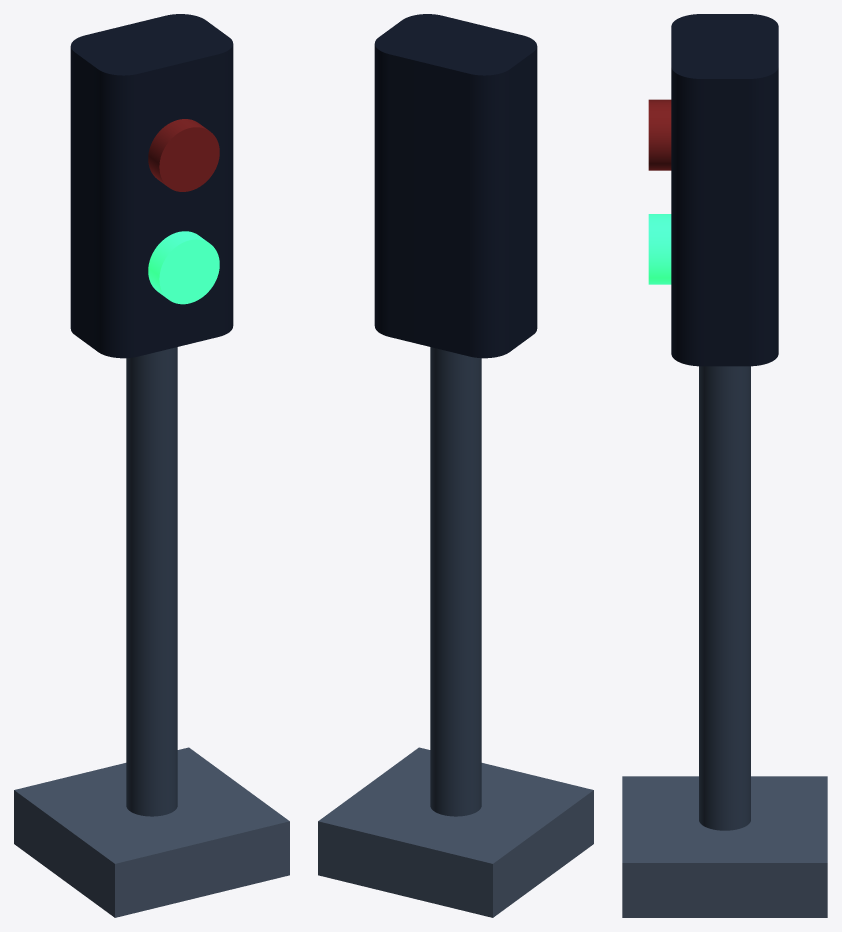
Rendered from railway_signal.glb.
3 views of the same model, side by side, from view 1: azimuth 30°, elevation 25°; view 2: azimuth 150°, elevation 25°; view 3: azimuth 270°, elevation 25° (orthographic).
Parts seen in each view (by area): view 1: sig_head, sig_base, sig_pole, sig_green, sig_red; view 2: sig_head, sig_base, sig_pole; view 3: sig_head, sig_base, sig_pole, sig_red, sig_green.
Boxes of the visible parts, <box> form: sig_head: <box>70,14,233,358</box>; sig_base: <box>14,747,289,917</box>; sig_pole: <box>126,347,177,816</box>; sig_green: <box>148,231,219,304</box>; sig_red: <box>148,119,219,191</box>; sig_head: <box>374,14,537,358</box>; sig_base: <box>318,747,593,917</box>; sig_pole: <box>430,347,481,816</box>; sig_head: <box>671,14,778,366</box>; sig_base: <box>622,776,827,917</box>; sig_pole: <box>699,366,750,830</box>; sig_red: <box>648,99,671,170</box>; sig_green: <box>648,214,671,284</box>.
Size of the model in its own units: 0.22 by 0.98 by 0.22.
